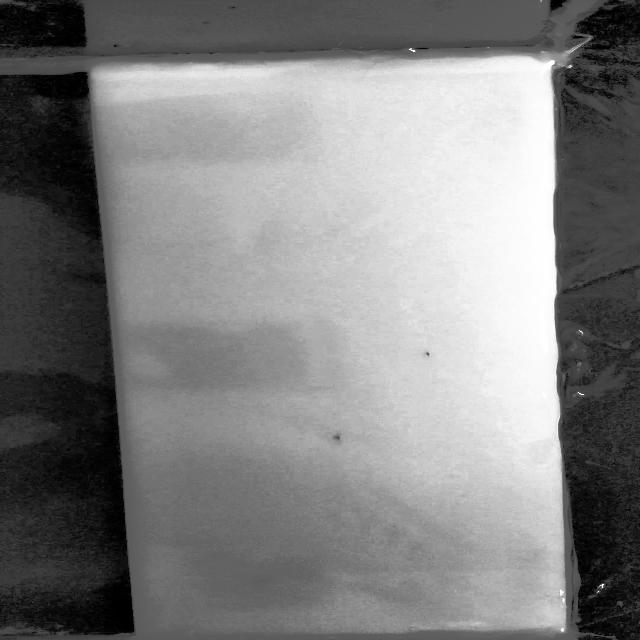shrimp: (248, 573, 282, 591), (326, 429, 350, 444), (419, 347, 441, 361)
